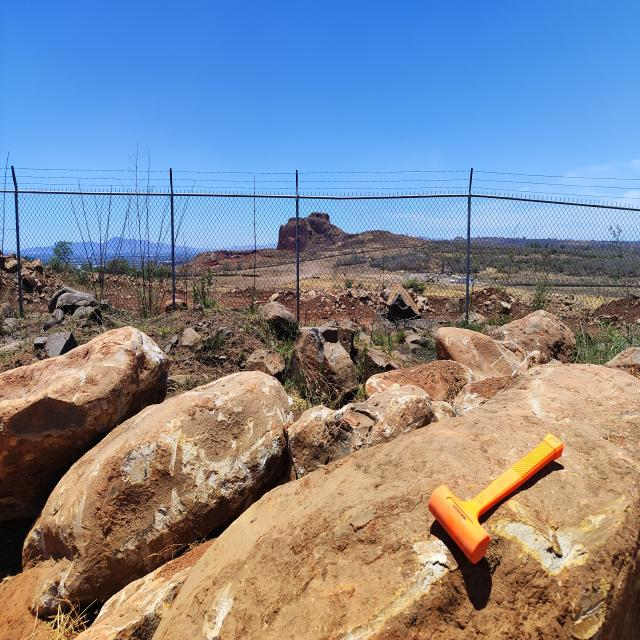Orange_hammer: (428, 432, 564, 564)
